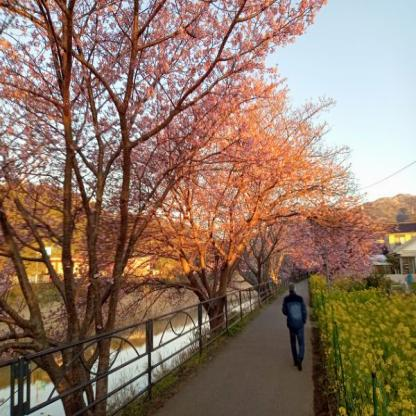KawazuSakura: (0, 0, 378, 286)
